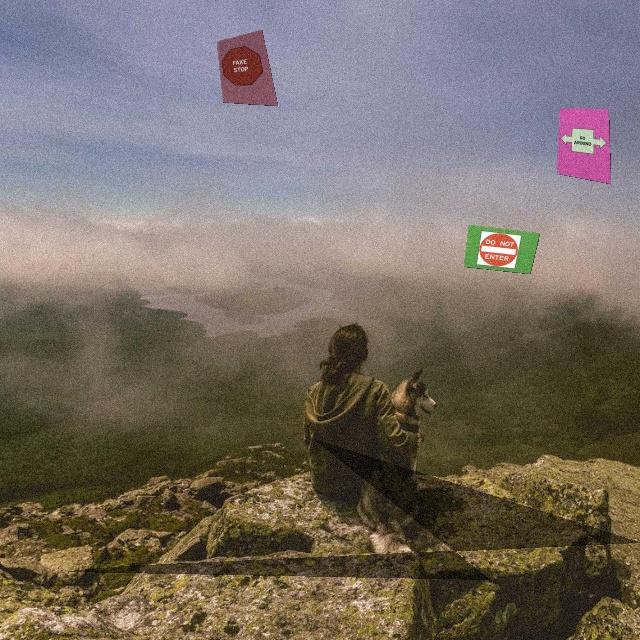DO_NOT_ENTER: (477, 226, 522, 274)
FAKE_STOP: (219, 44, 265, 87)
GO_AROUND: (560, 127, 607, 156)
